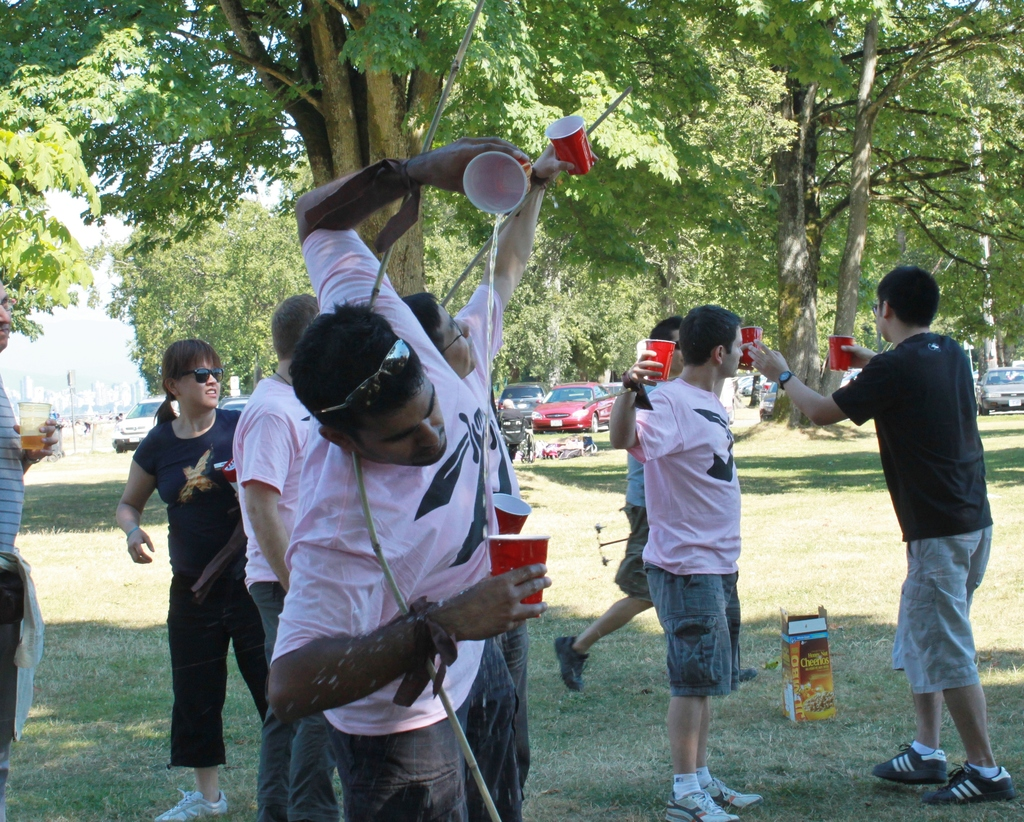Footwear: (920, 759, 1016, 807), (870, 745, 945, 785), (156, 784, 231, 821), (668, 787, 739, 821), (701, 778, 764, 815), (559, 634, 594, 693)
